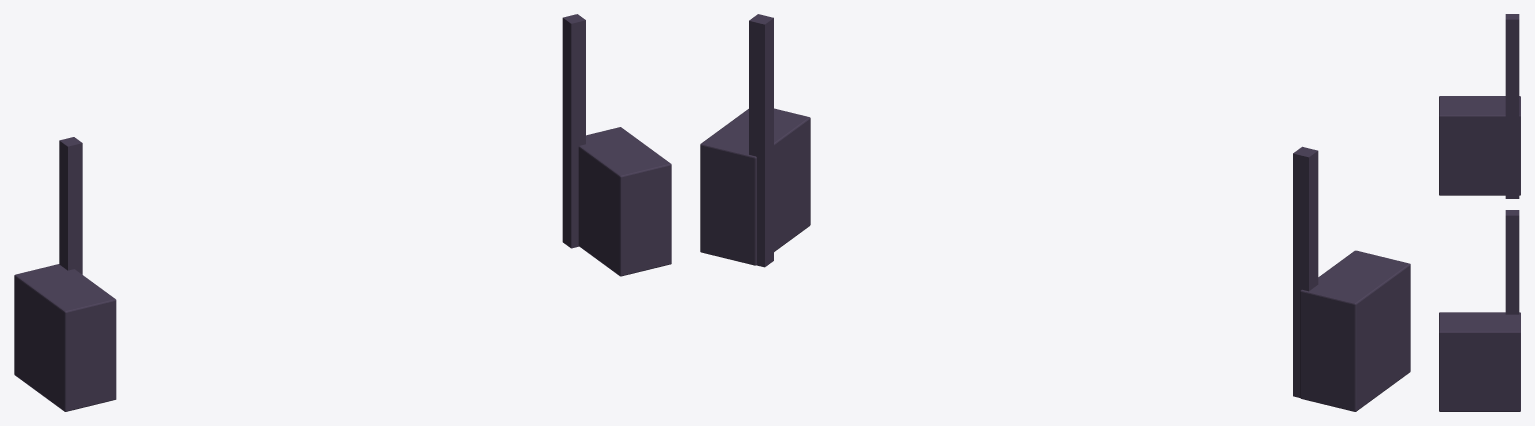
The model's file is EndBlocks_StoneDark.fbx.
3 renders of one model, left to right at view 1: azimuth 30°, elevation 25°; view 2: azimuth 150°, elevation 25°; view 3: azimuth 270°, elevation 25°, orthographic. The views are drawn at different scales.
Parts seen in each view (by area): view 1: EndBlock-1_1.001; view 2: EndBlock-1_1.001; view 3: EndBlock-1_1.001.
Part boxes in pixels (x1=…): EndBlock-1_1.001: x1=14, y1=14, x2=671, y2=411; EndBlock-1_1.001: x1=700, y1=14, x2=1410, y2=411; EndBlock-1_1.001: x1=1439, y1=14, x2=1520, y2=411.
Size of the model in its own units: 16400 by 5800 by 2400.
